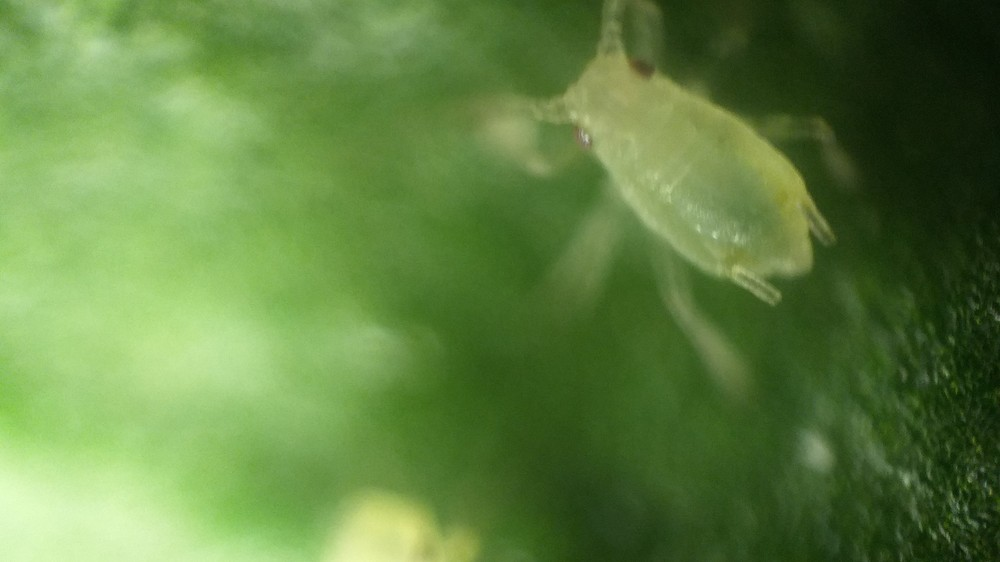Pulgon: (477, 7, 910, 411)
